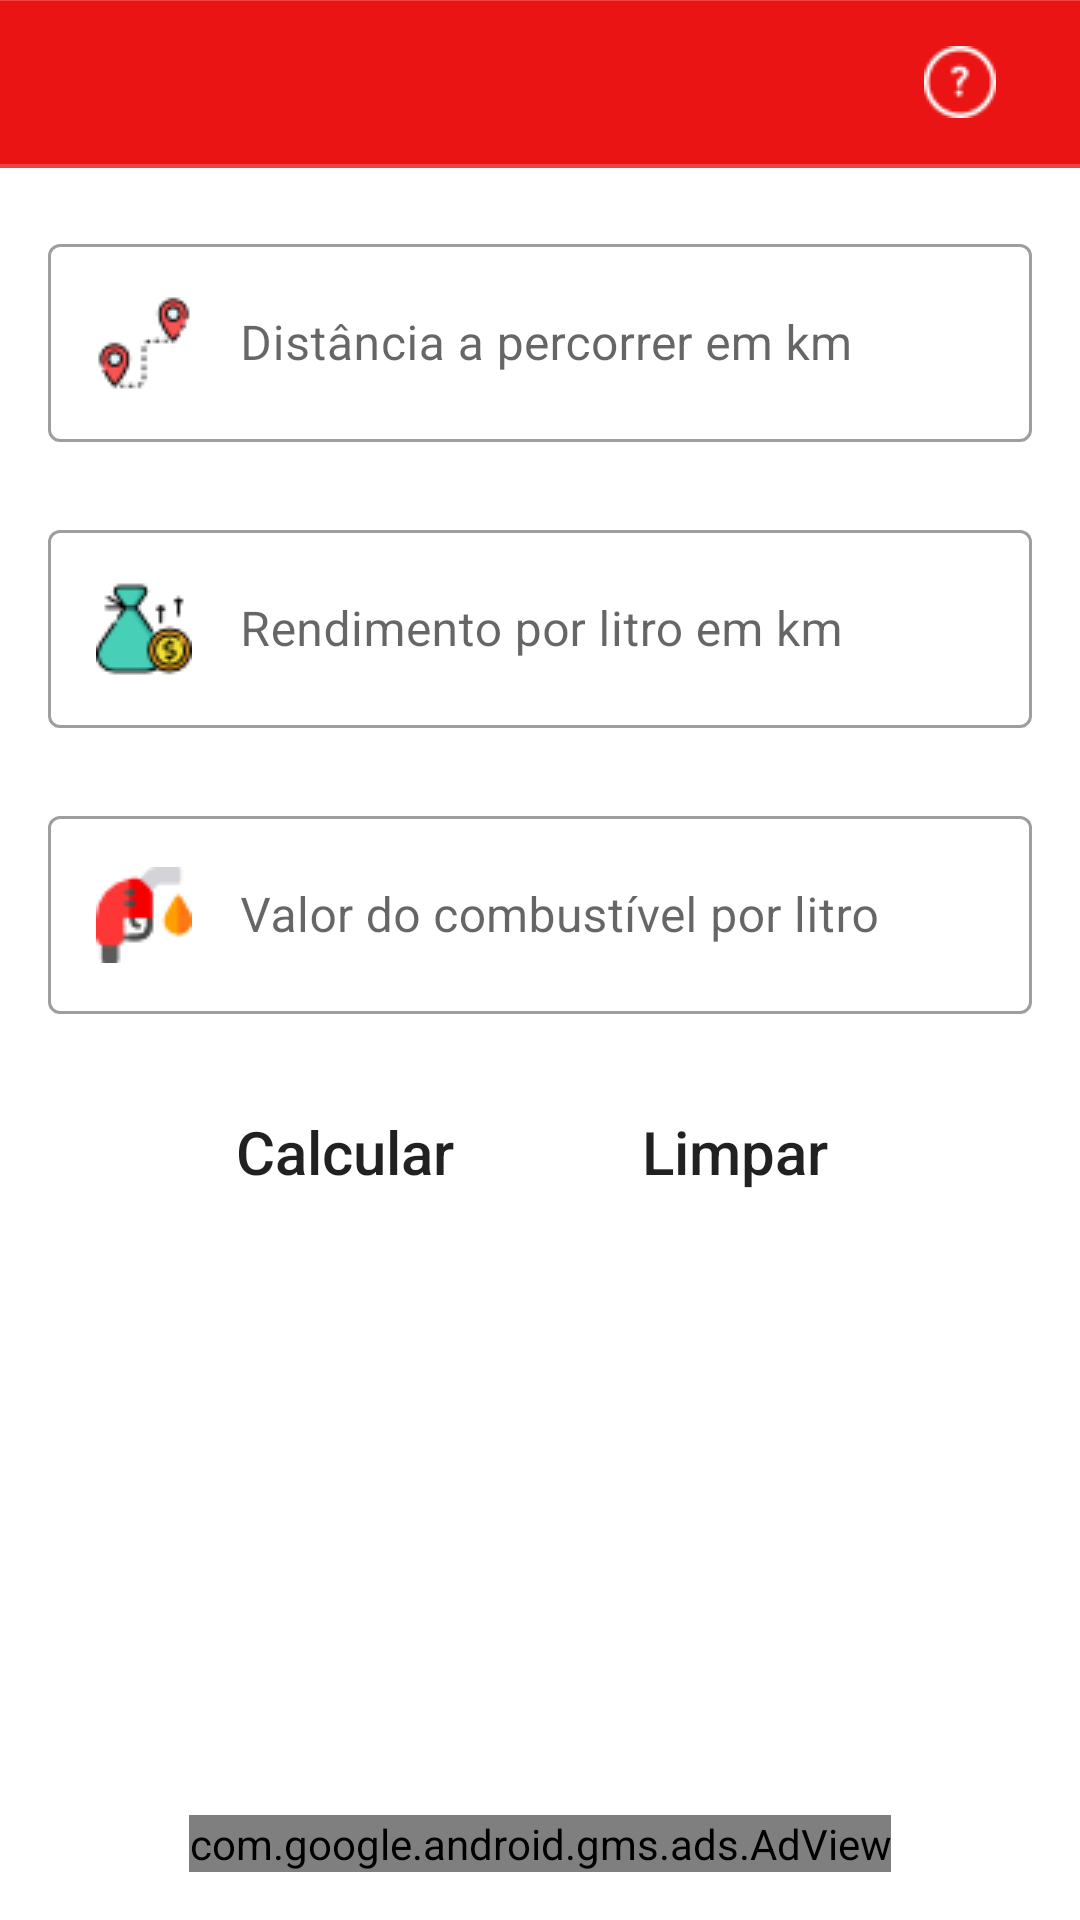

Icons on this 1080 × 1920 Android screen, each with the point to tap as (x=x, y=y):
question: (x=960, y=82)
